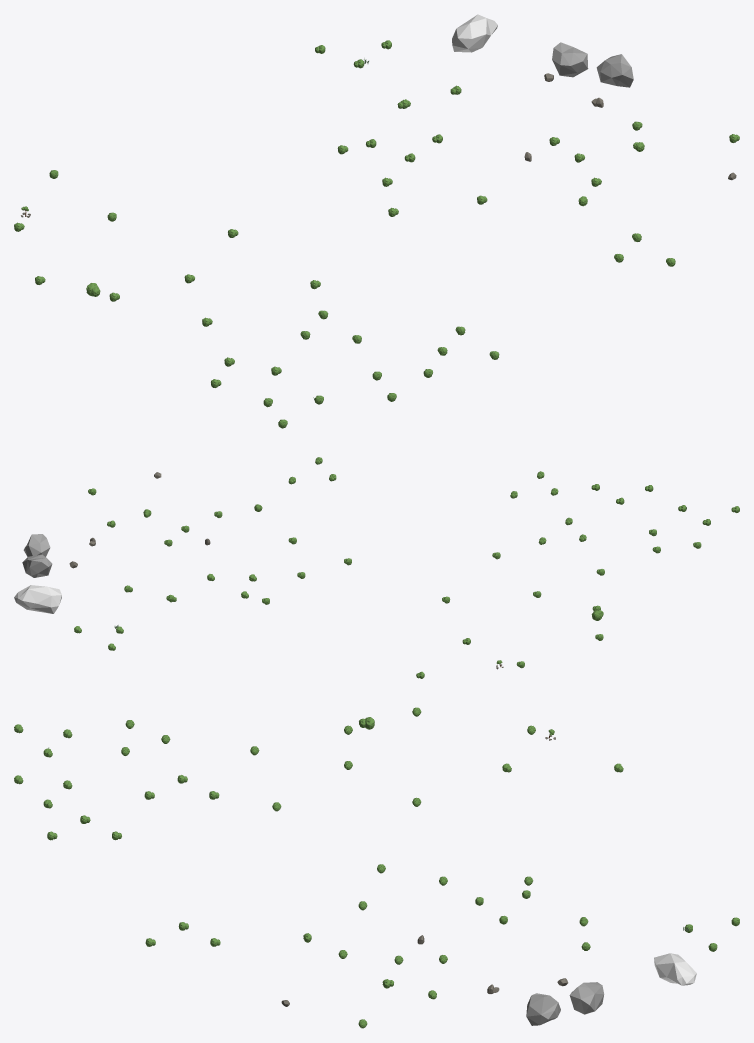
The model's file is Brush.fbx.
3 views of the same model, one above another, from view 1: azimuth 30°, elevation 25°; view 2: azimuth 150°, elevation 25°; view 3: azimuth 270°, elevation 25° (orthographic). The views are drawn at different scales.
Visible parts, largest first — view 1: Icosphere.008, Cube.366, Cube.284; view 2: Icosphere.008, Cube.366, Cube.284; view 3: Icosphere.008, Cube.284, Cube.366.
Boxes of the visible parts, left/top/right/bottom form: Icosphere.008: left=452, top=14, right=497, bottom=52; Cube.366: left=552, top=42, right=588, bottom=77; Cube.284: left=596, top=54, right=633, bottom=87; Icosphere.008: left=14, top=585, right=61, bottom=613; Cube.366: left=22, top=554, right=52, bottom=577; Cube.284: left=23, top=534, right=50, bottom=556; Icosphere.008: left=654, top=953, right=696, bottom=985; Cube.284: left=526, top=993, right=560, bottom=1025; Cube.366: left=569, top=982, right=604, bottom=1014.
Size of the model in its own units: 10157 by 511 by 9856.
